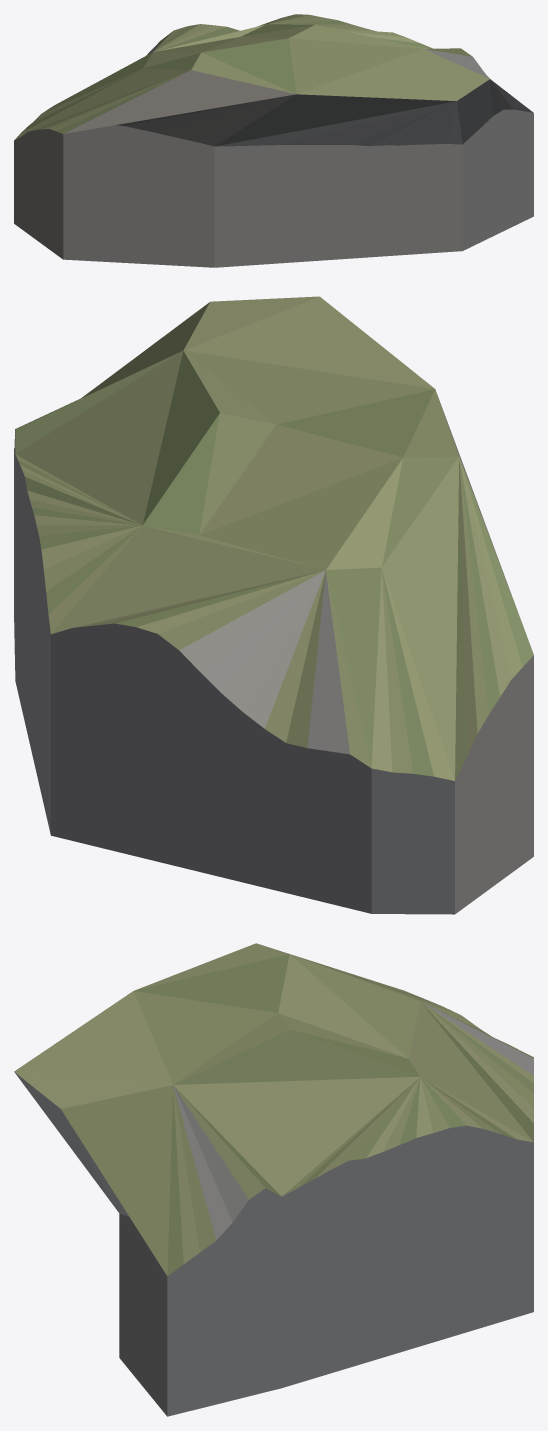
The model's file is cliff_western_mesa.glb.
3 views of the same model, one above another, from view 1: azimuth 30°, elevation 25°; view 2: azimuth 150°, elevation 25°; view 3: azimuth 270°, elevation 25° (orthographic). The views are drawn at different scales.
Visible parts, largest first — view 1: cliff_western_mesa; view 2: cliff_western_mesa; view 3: cliff_western_mesa.
Boxes of the visible parts, bbox=[...] form: cliff_western_mesa: bbox=[14, 14, 533, 267]; cliff_western_mesa: bbox=[14, 296, 533, 914]; cliff_western_mesa: bbox=[14, 943, 533, 1416].
Bounding box in the file's own units: 143 × 69 × 119.
